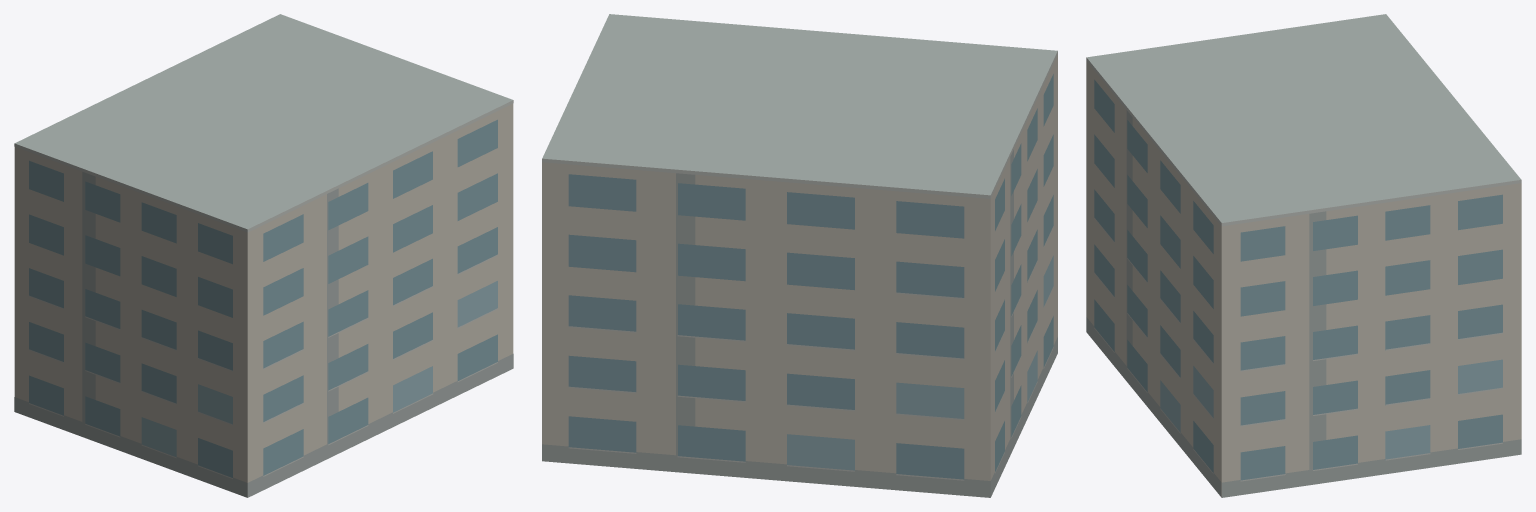
File: survey-upis-32621163.glb
3 views of the same model, side by side, from view 1: azimuth 30°, elevation 25°; view 2: azimuth 150°, elevation 25°; view 3: azimuth 270°, elevation 25° (orthographic). The views are drawn at different scales.
Visible parts, largest first — view 1: survey-upis-32621163.tmp; view 2: survey-upis-32621163.tmp; view 3: survey-upis-32621163.tmp.
Part boxes in pixels (<box>): survey-upis-32621163.tmp: <box>14,14,513,497</box>; survey-upis-32621163.tmp: <box>542,14,1057,497</box>; survey-upis-32621163.tmp: <box>1086,14,1521,497</box>.
Bounding box in the file's own units: 33.13 × 20.3 × 29.13.
